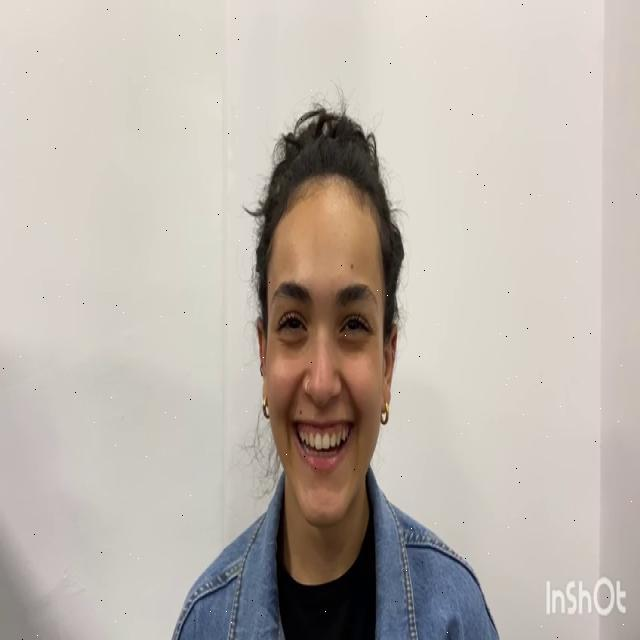happy: (264, 174, 386, 530)
